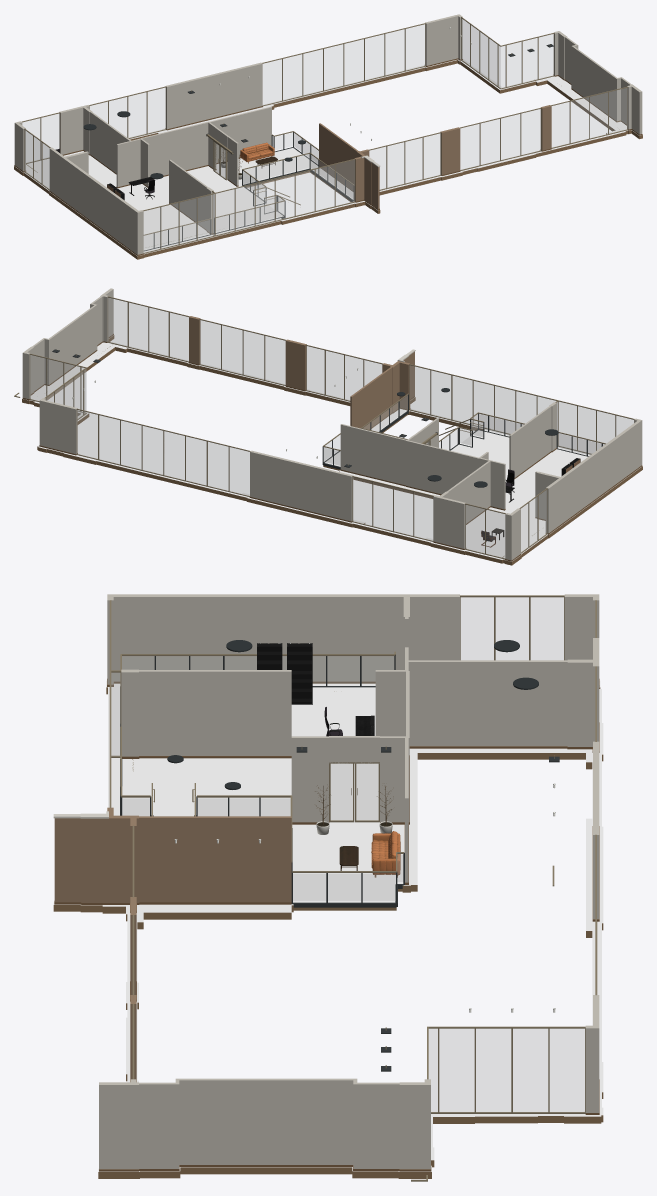
File: upper.glb
3 renders of one model, top to bottom at view 1: azimuth 30°, elevation 25°; view 2: azimuth 150°, elevation 25°; view 3: azimuth 270°, elevation 25°, orthographic. The views are drawn at different scales.
Parts seen in each view (by area): view 1: HEPHAESTUS_upper_architecture, HEPHAESTUS_upper_glass, HEPHAESTUS_upper_floor, HEPHAESTUS_upper_furniture; view 2: HEPHAESTUS_upper_architecture, HEPHAESTUS_upper_glass, HEPHAESTUS_upper_floor, HEPHAESTUS_upper_furniture; view 3: HEPHAESTUS_upper_architecture, HEPHAESTUS_upper_glass, HEPHAESTUS_upper_floor, HEPHAESTUS_upper_furniture.
Boxes of the visible parts, left/top/right/bottom form: HEPHAESTUS_upper_architecture: left=14, top=14, right=642, bottom=259; HEPHAESTUS_upper_glass: left=22, top=17, right=627, bottom=253; HEPHAESTUS_upper_floor: left=28, top=76, right=626, bottom=249; HEPHAESTUS_upper_furniture: left=55, top=142, right=277, bottom=200; HEPHAESTUS_upper_architecture: left=22, top=288, right=642, bottom=565; HEPHAESTUS_upper_glass: left=14, top=296, right=634, bottom=559; HEPHAESTUS_upper_floor: left=31, top=343, right=587, bottom=557; HEPHAESTUS_upper_furniture: left=481, top=458, right=580, bottom=547; HEPHAESTUS_upper_architecture: left=53, top=594, right=603, bottom=1178; HEPHAESTUS_upper_glass: left=109, top=595, right=597, bottom=1181; HEPHAESTUS_upper_floor: left=122, top=687, right=594, bottom=937; HEPHAESTUS_upper_furniture: left=257, top=642, right=400, bottom=877.
Bounding box in the file's own units: 37.12 × 3.3 × 17.26.
25 materials, 11 textured.
